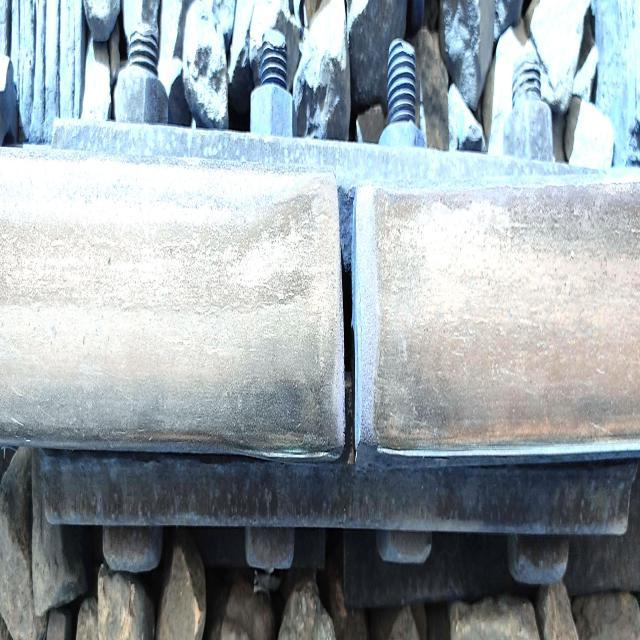Good Joint: (45, 71, 625, 579)
